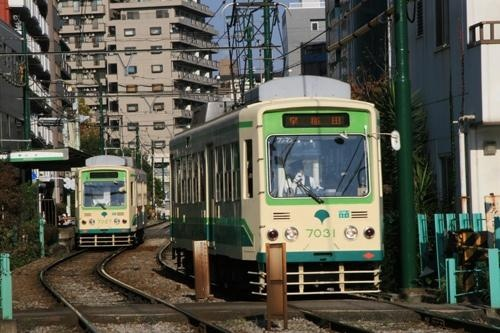train: (171, 72, 388, 303), (74, 151, 153, 250)
